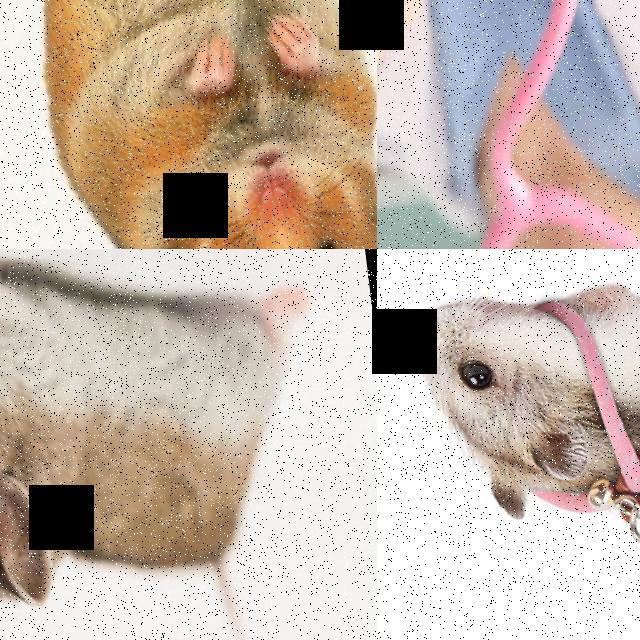hamster: (0, 249, 298, 640), (12, 0, 377, 249), (409, 258, 640, 555)
